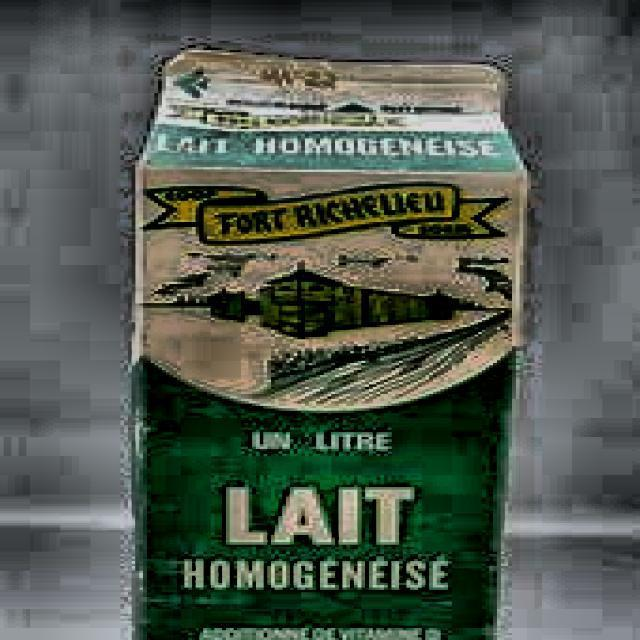cardboard: (128, 48, 531, 640)
